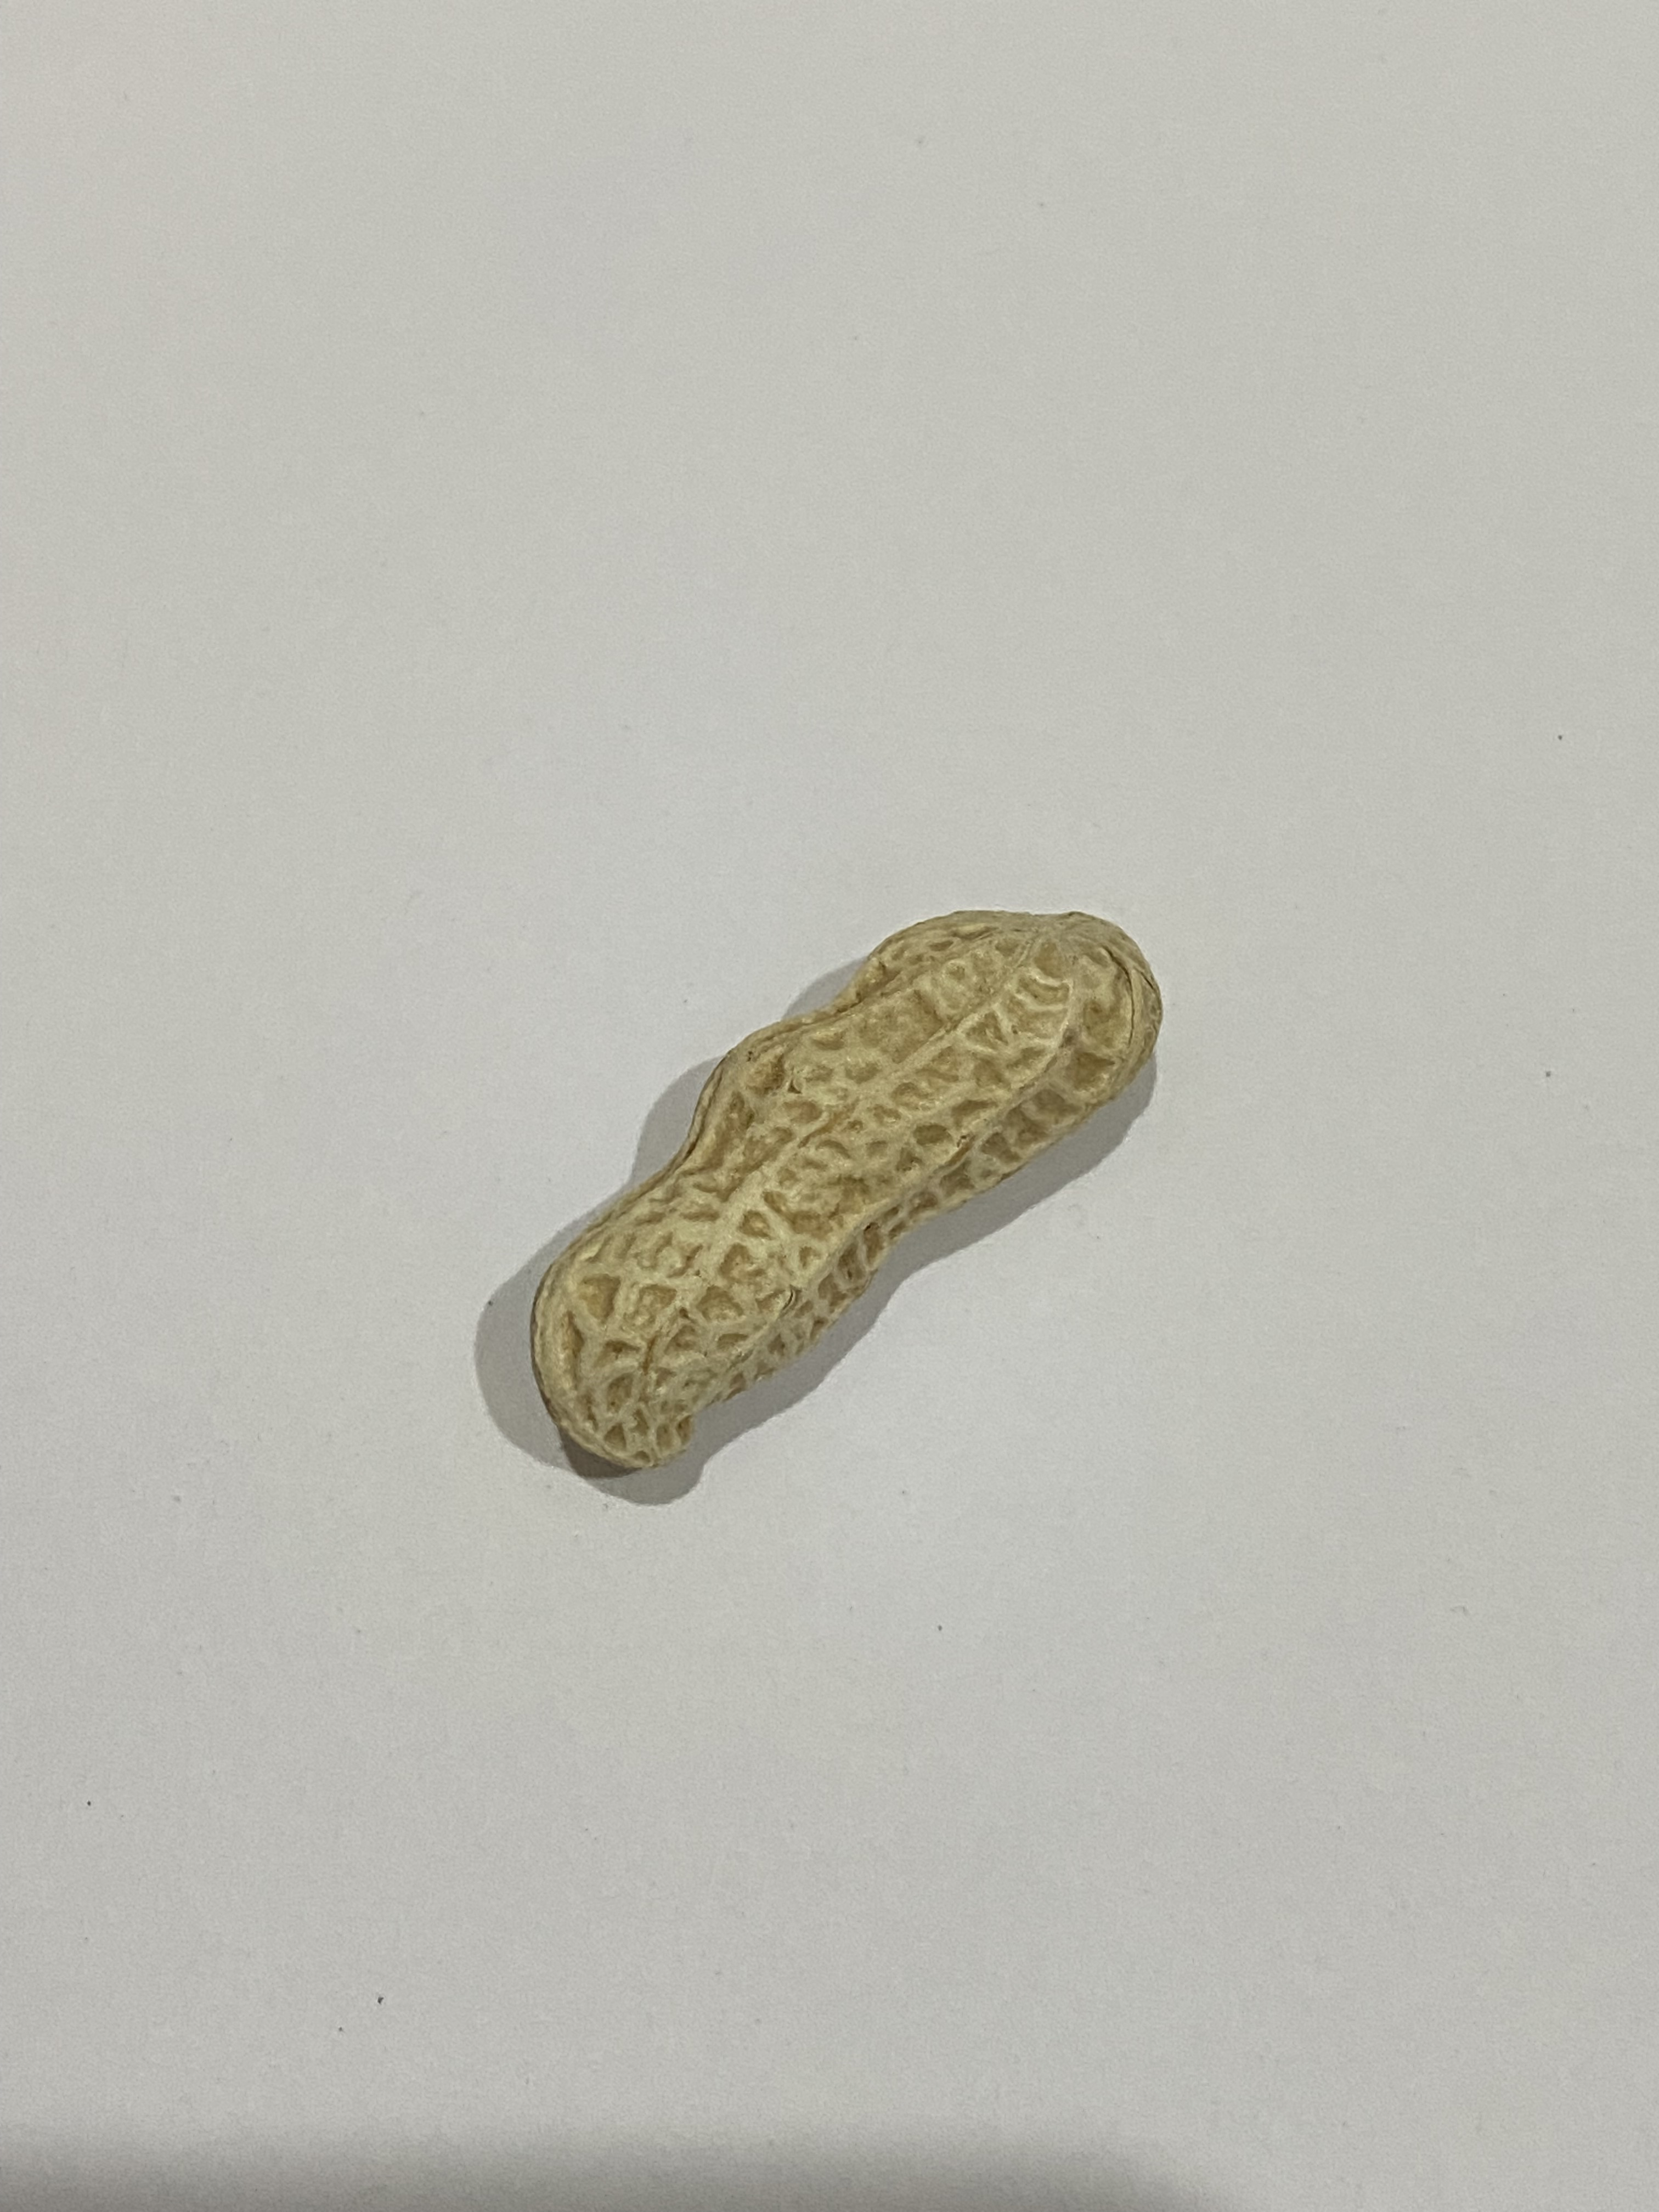kacang3: (523, 885, 1188, 1482)
